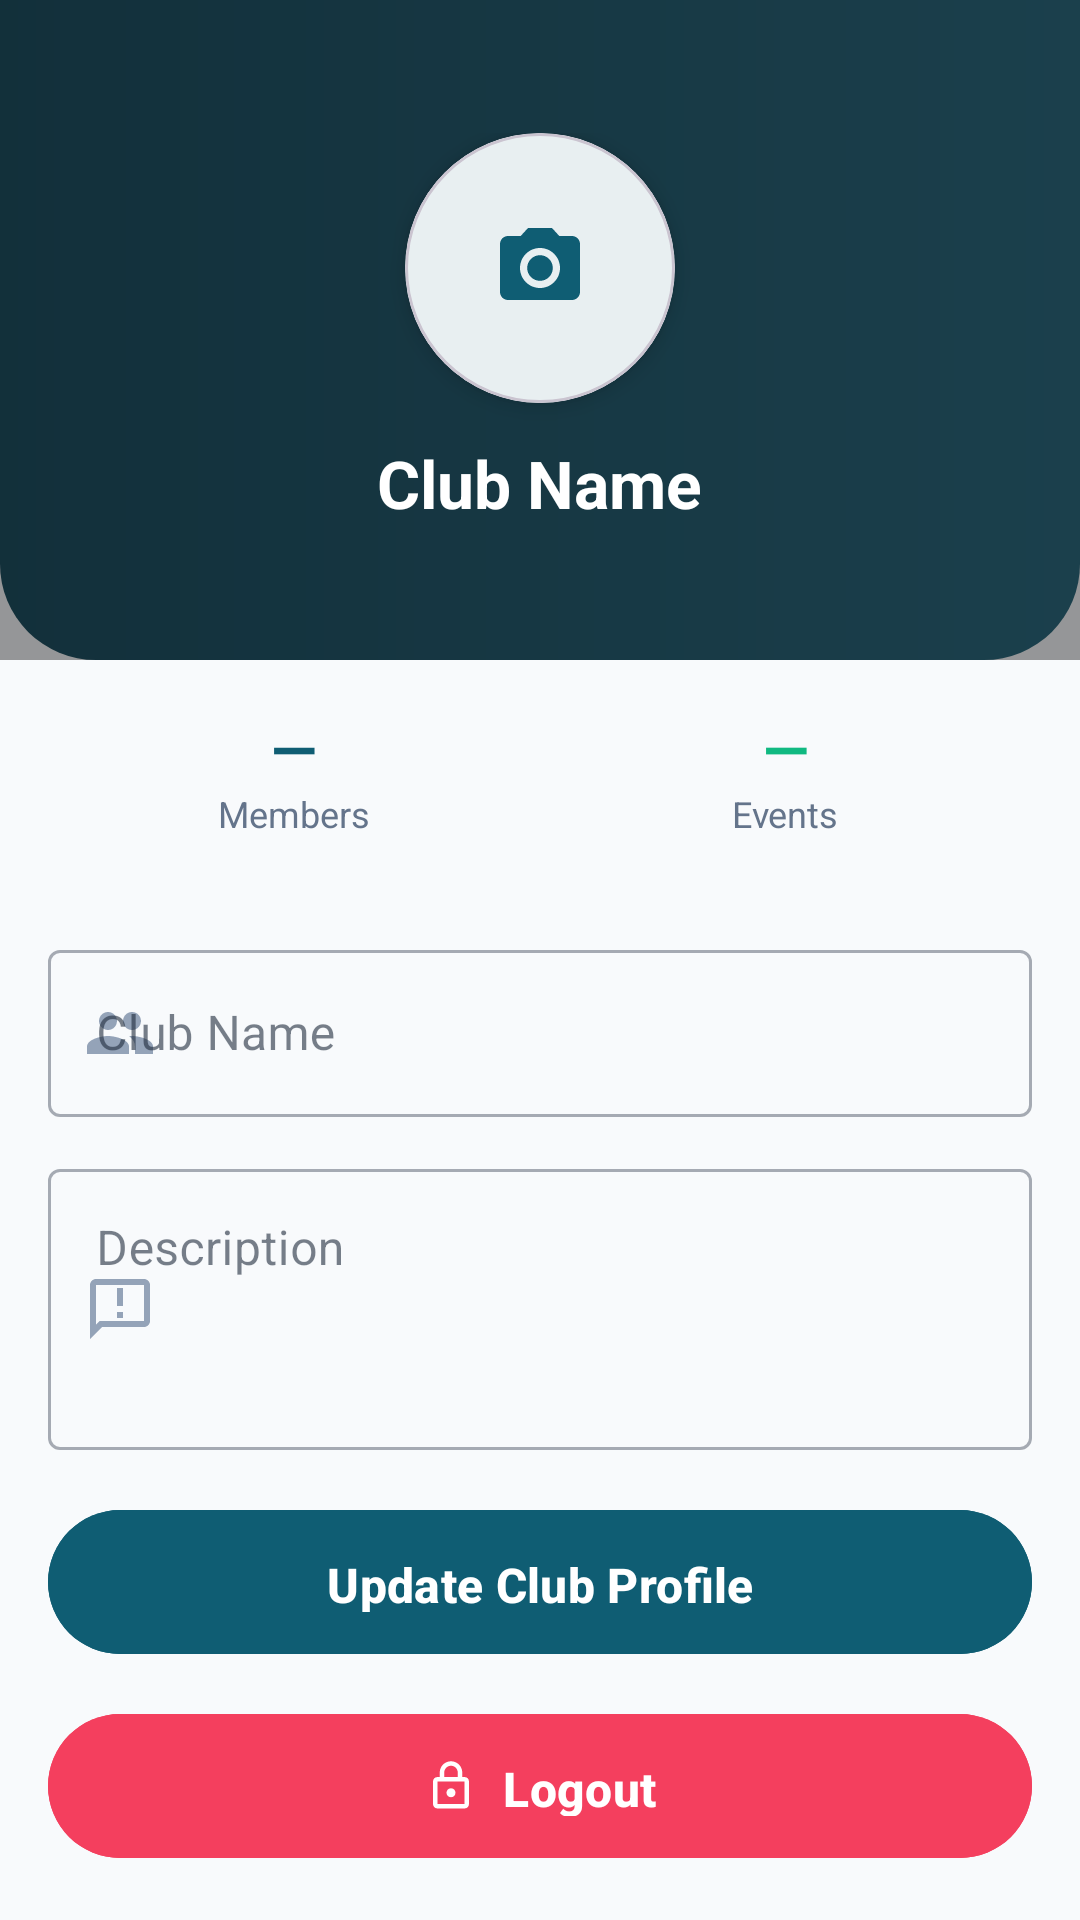

Named icons in this screenshot (1080 x 1920) and their bounding boxes, [x1, y1, x2, y2]:
camera: [500, 228, 580, 300]
